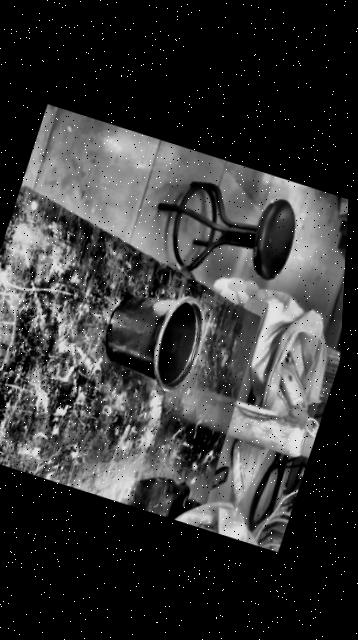pot: (94, 279, 212, 395)
